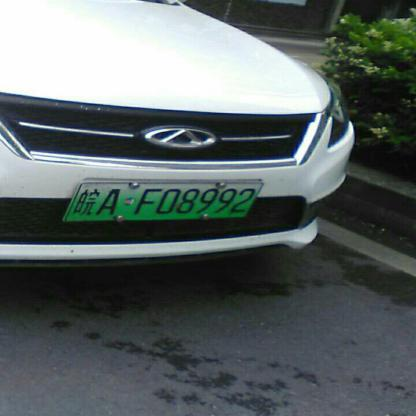lp: (65, 182, 265, 219)
